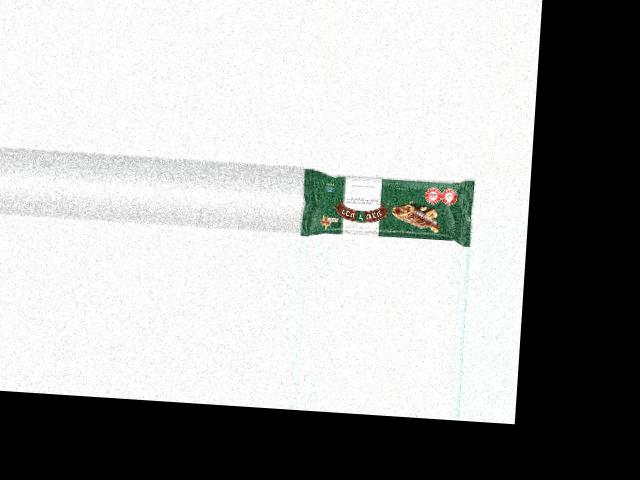chocolate: (297, 165, 476, 246)
